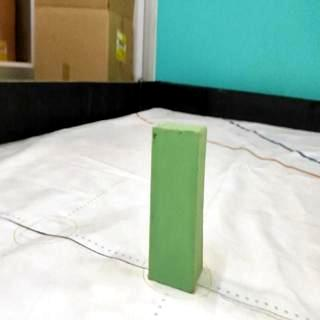greenbox: (149, 120, 207, 296)
